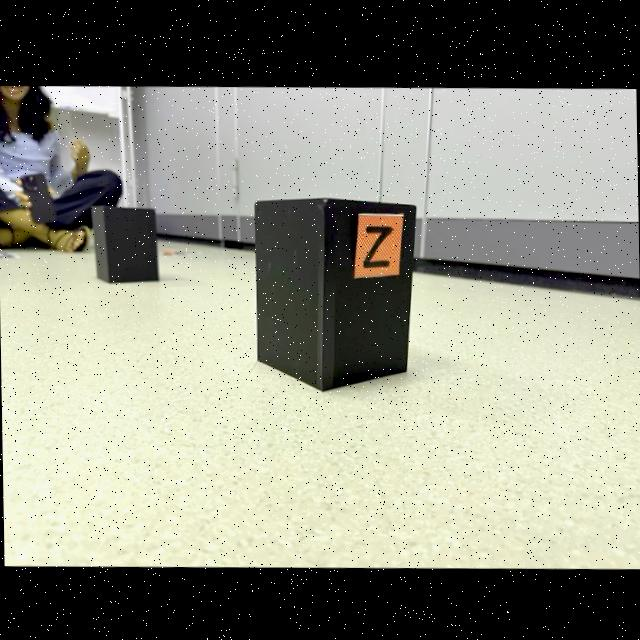Z: (364, 224, 392, 265)
